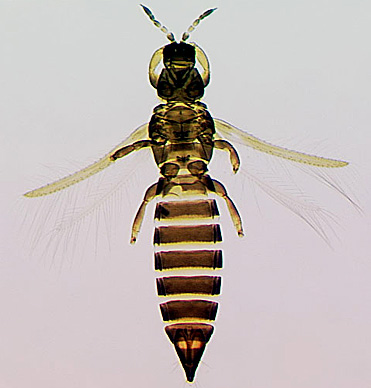Thripidae: (20, 3, 351, 382)
